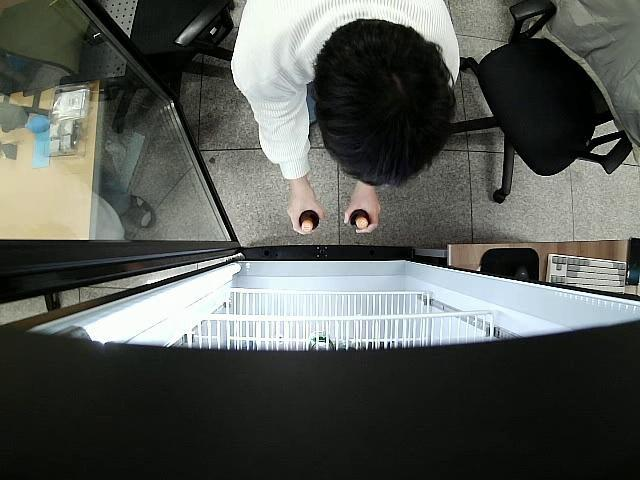17_vita500: (298, 209, 319, 235), (349, 208, 370, 232)
